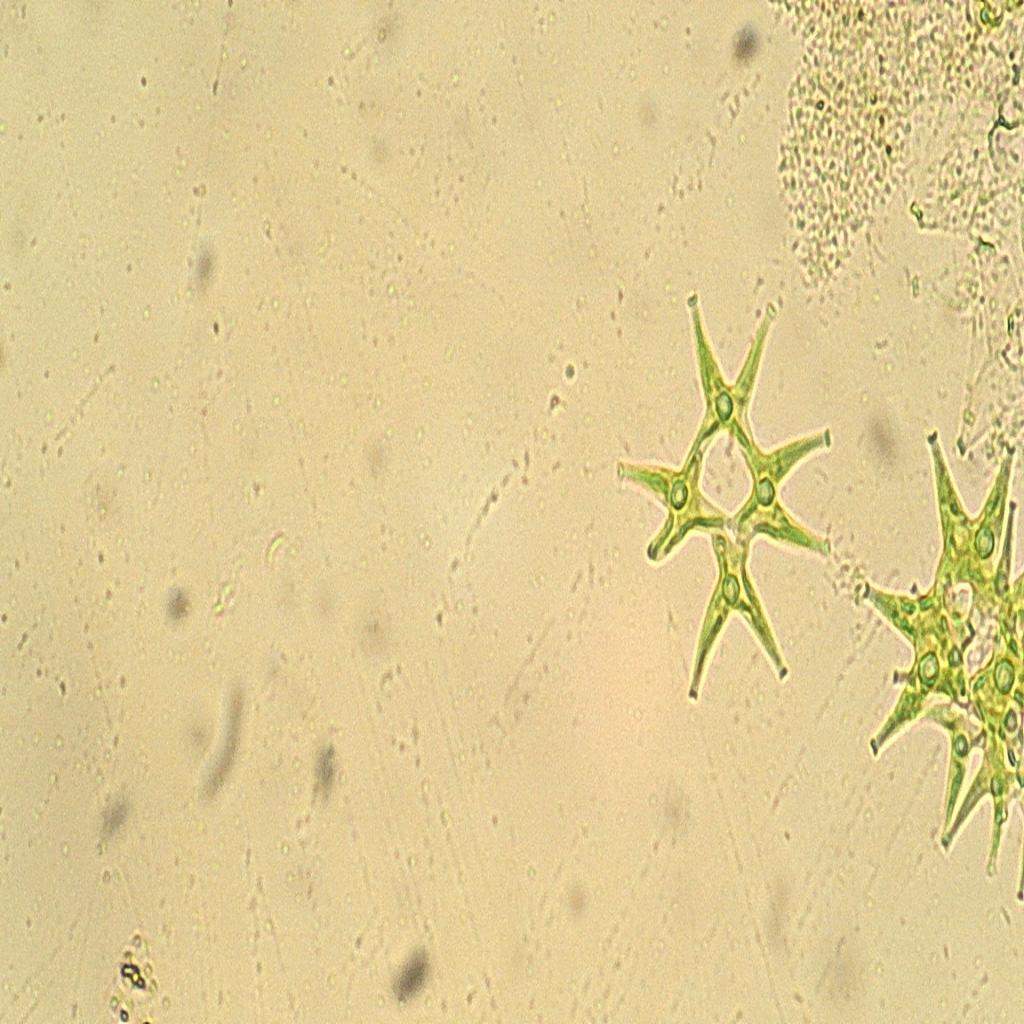Pediastrum_CT: (610, 254, 839, 712)
